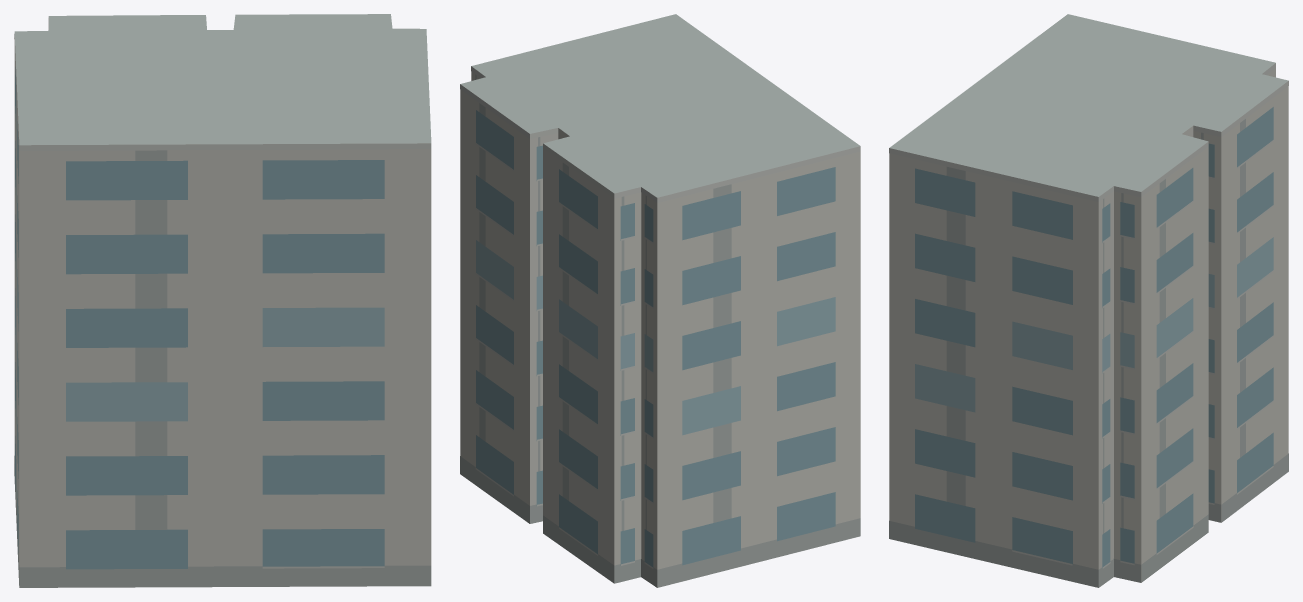
Rendered from survey-upis-33044098.glb.
3 views of the same model, side by side, from view 1: azimuth 30°, elevation 25°; view 2: azimuth 150°, elevation 25°; view 3: azimuth 270°, elevation 25° (orthographic). The views are drawn at different scales.
Parts seen in each view (by area): view 1: survey-upis-33044098.tmp; view 2: survey-upis-33044098.tmp; view 3: survey-upis-33044098.tmp.
Boxes of the visible parts, x1,y1,x2,y2 form: survey-upis-33044098.tmp: (14,14,431,587); survey-upis-33044098.tmp: (460,14,860,587); survey-upis-33044098.tmp: (889,14,1288,587).
Size of the model in its own units: 18.38 by 18.3 by 16.96.
